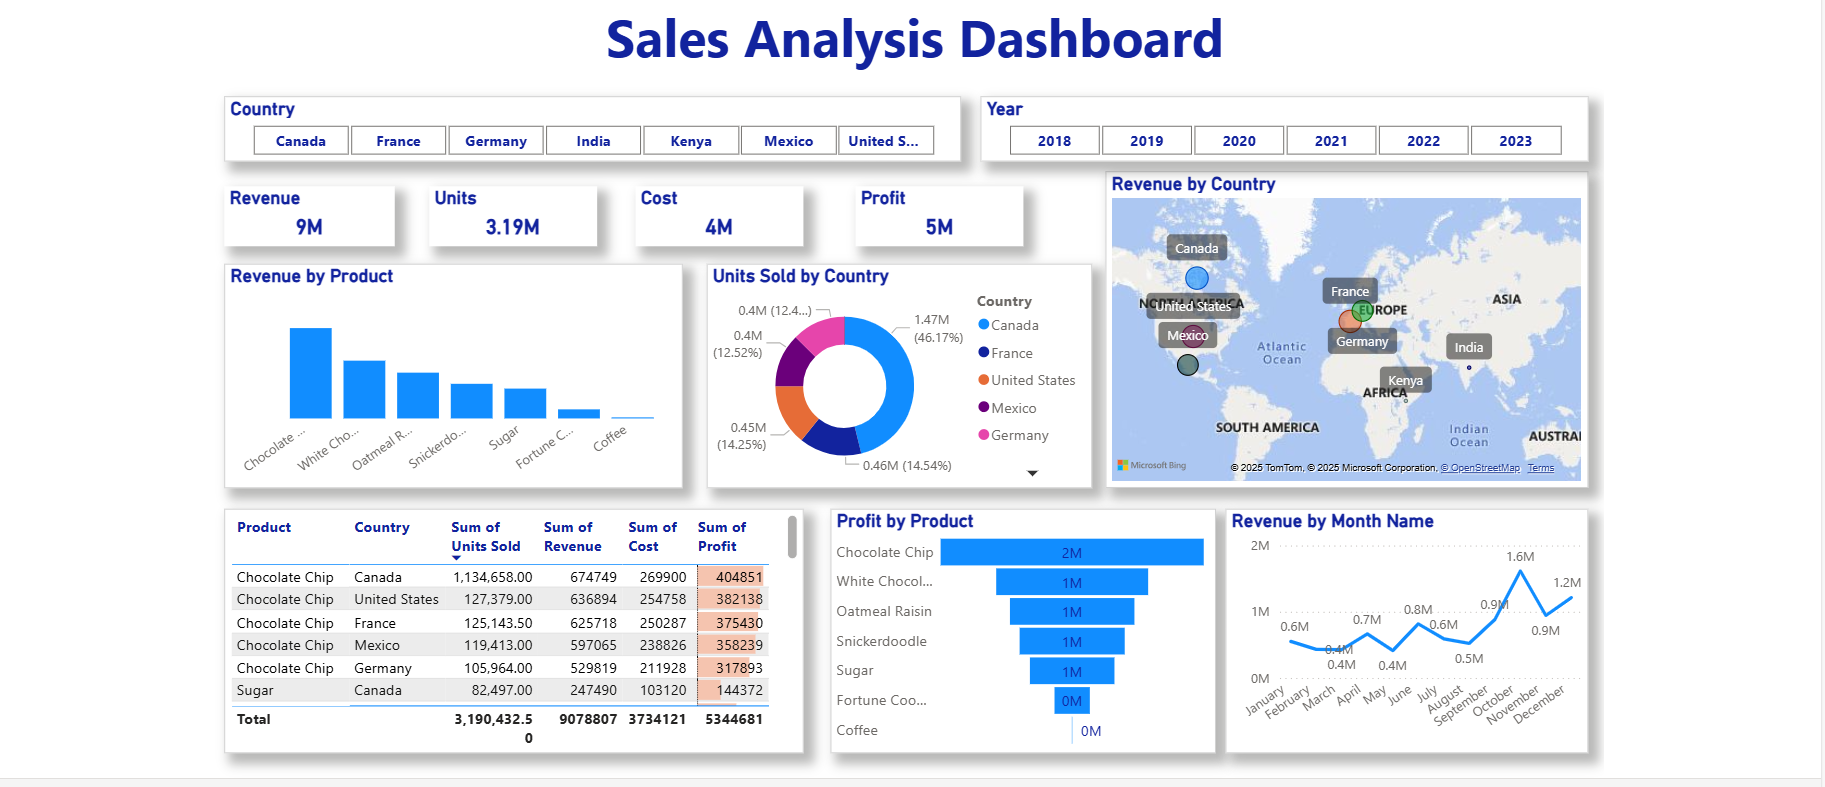

Layout of this report page (visuals, bound fields, positions):
{"tool":"powerbi","page":{"name":"Page 1","canvas":[1280,720],"ordinal":0},"visuals":[{"type":"textbox","box":[9.8,0,1270.5,77],"z":0},{"type":"card","title":"Revenue","fields":{"Values":["Sum(Sheet1.Revenue)"]},"box":[9.8,176.1,156.5,55],"z":1000},{"type":"card","title":"Units","fields":{"Values":["Sum(Sheet1.Units Sold)"]},"box":[199.3,176.1,154.1,55],"z":2000},{"type":"card","title":"Profit","fields":{"Values":["Sum(Sheet1.Profit)"]},"box":[590.6,176.1,154.1,55],"z":3000},{"type":"card","title":"Cost","fields":{"Values":["Sum(Sheet1.Cost)"]},"box":[388.9,176.1,154.1,55],"z":4000},{"type":"columnChart","title":"Revenue by Product","fields":{"Category":["Sheet1.Product"],"Y":["Sum(Sheet1.Revenue)"]},"box":[9.8,247,421.9,206.7],"z":5000},{"type":"donutChart","title":"Units Sold by Country","fields":{"Y":["Sum(Sheet1.Units Sold)"],"Category":["Sheet1.Country"]},"box":[453.7,247,354.6,206.7],"z":6000},{"type":"map","title":"Revenue by Country","fields":{"Category":["Sheet1.Country"],"Size":["Sum(Sheet1.Revenue)"]},"box":[820.5,162.6,443.9,291],"z":7000},{"type":"funnel","title":"Profit by Product","fields":{"Category":["Sheet1.Product"],"Y":["Sum(Sheet1.Profit)"]},"box":[567.4,472,354.6,225],"z":8000},{"type":"tableEx","fields":{"Values":["Sheet1.Product","Sheet1.Country","Sum(Sheet1.Units Sold)","Sum(Sheet1.Revenue)","Sum(Sheet1.Cost)","Sum(Sheet1.Profit)"]},"box":[9.8,472,533.2,225],"z":9000},{"type":"lineChart","title":"Revenue by Month Name","fields":{"Category":["Sheet1.Month Name"],"Y":["Sum(Sheet1.Revenue)"]},"box":[930.6,472,333.8,225],"z":10000},{"type":"slicer","title":"Country","fields":{"Values":["Sheet1.Country"]},"box":[9.8,92.9,677.4,59.9],"z":11000},{"type":"slicer","title":"Year","fields":{"Values":["Sheet1.Year"]},"box":[705.6,92.9,558.8,59.9],"z":12000}]}

Visuals, with their boxes on the page's 1280x720 design canvas (x1, y1, x2, y2). These are canvas units, not pixel positions in the 1825x787 screenshot, which may show the page scaled, cropped or inside an application window:
textbox: (x1=10, y1=0, x2=1280, y2=77)
"Revenue" card: (x1=10, y1=176, x2=166, y2=231)
"Units" card: (x1=199, y1=176, x2=353, y2=231)
"Profit" card: (x1=591, y1=176, x2=745, y2=231)
"Cost" card: (x1=389, y1=176, x2=543, y2=231)
"Revenue by Product" columnChart: (x1=10, y1=247, x2=432, y2=454)
"Units Sold by Country" donutChart: (x1=454, y1=247, x2=808, y2=454)
"Revenue by Country" map: (x1=820, y1=163, x2=1264, y2=454)
"Profit by Product" funnel: (x1=567, y1=472, x2=922, y2=697)
tableEx - Sheet1.Product x Sheet1.Country: (x1=10, y1=472, x2=543, y2=697)
"Revenue by Month Name" lineChart: (x1=931, y1=472, x2=1264, y2=697)
"Country" slicer: (x1=10, y1=93, x2=687, y2=153)
"Year" slicer: (x1=706, y1=93, x2=1264, y2=153)
